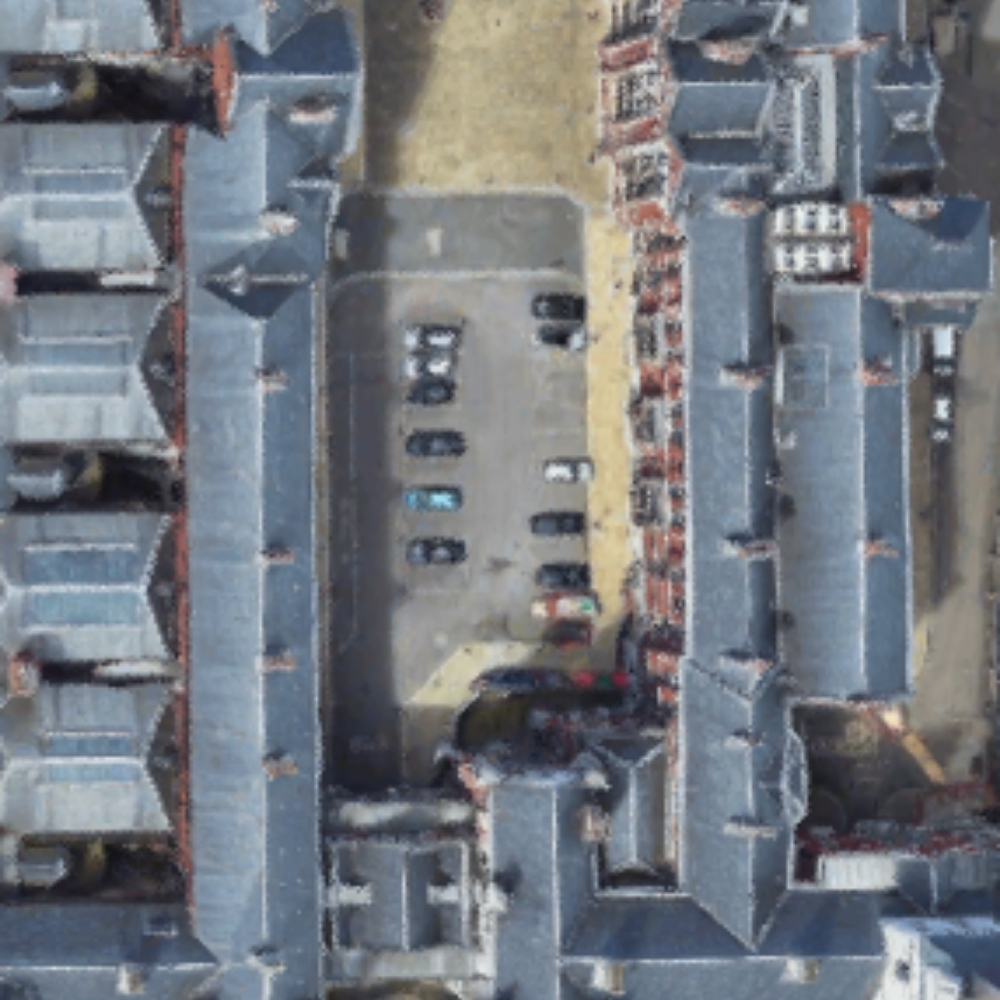parking: (320, 200, 600, 785)
